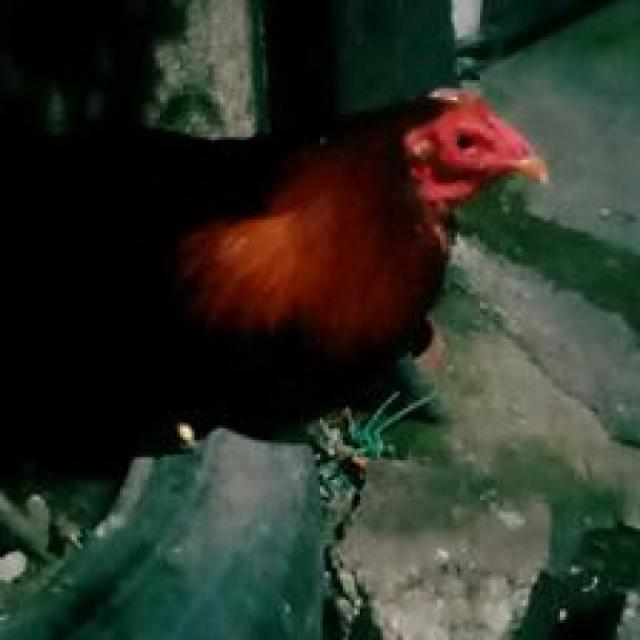Chicken: (3, 72, 591, 489)
